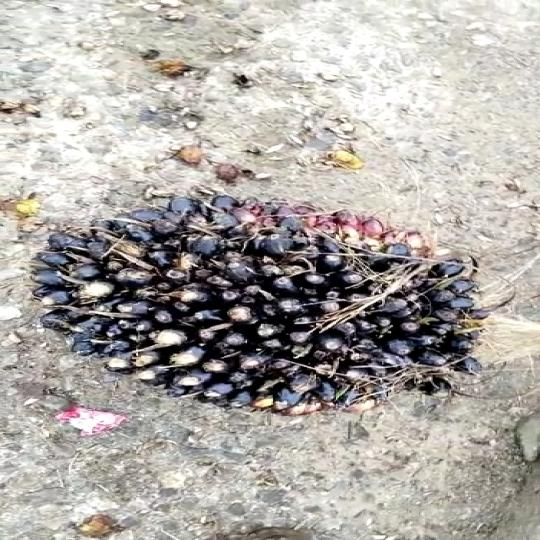mentah: (28, 164, 495, 419)
